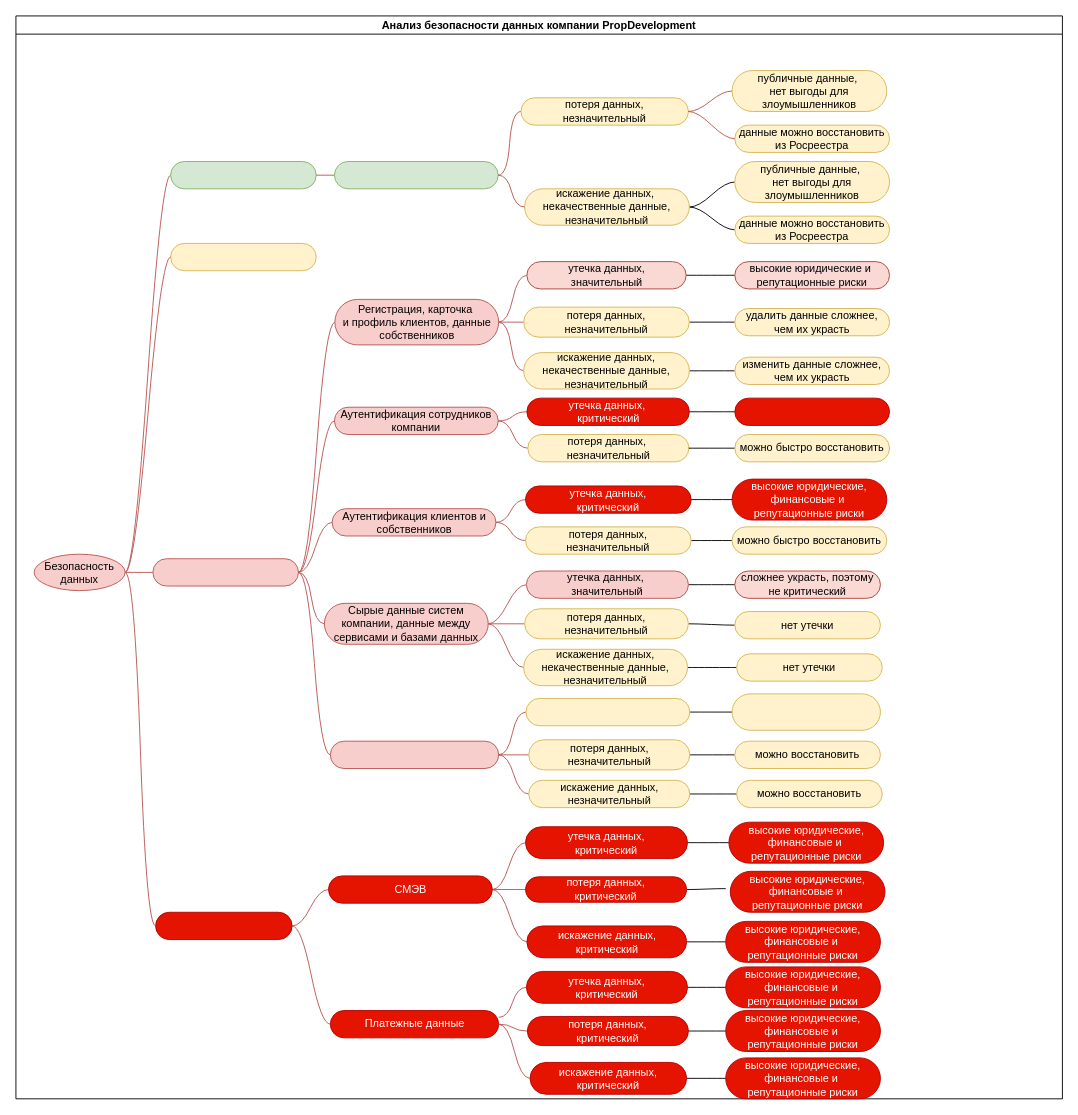
The diagram is 1078 pixels wide and 1115 high, and some of its shapes have lost their labels. The shapes that lost their labels are listed below. From the top down, each one's centre as x and y in pixels, then its label:
At point (243, 175): "Публичные данные".
At point (416, 175): "Данные по объектам недвижимости".
At point (243, 257): "Внутренние данные".
At point (812, 411): "риски компроментации всей системы".
At point (225, 572): "Конфиденциальные данные".
At point (607, 712): "утечка данных, незначительный".
At point (805, 711): "не представляют особой ценности для злоумышленников".
At point (414, 754): "Данные систем ЖКХ".
At point (223, 925): "Секретные данные".
